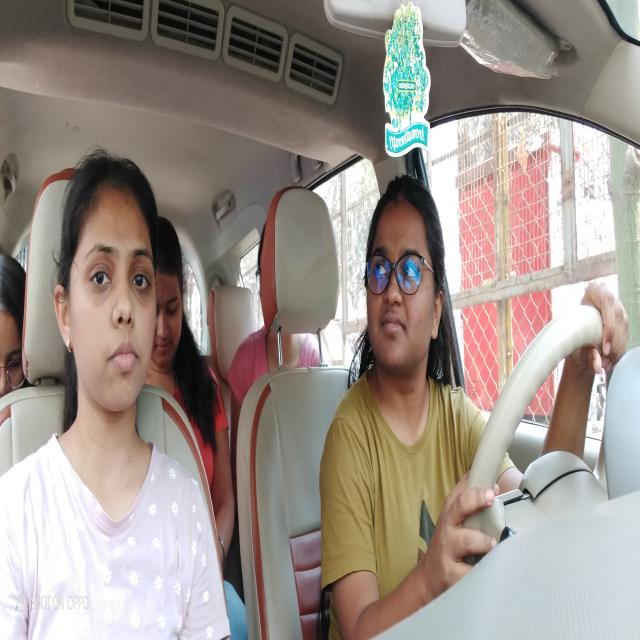LeftRight: (363, 198, 441, 358)
person: (61, 178, 164, 402), (153, 261, 184, 356), (0, 299, 22, 395), (259, 336, 306, 368)
